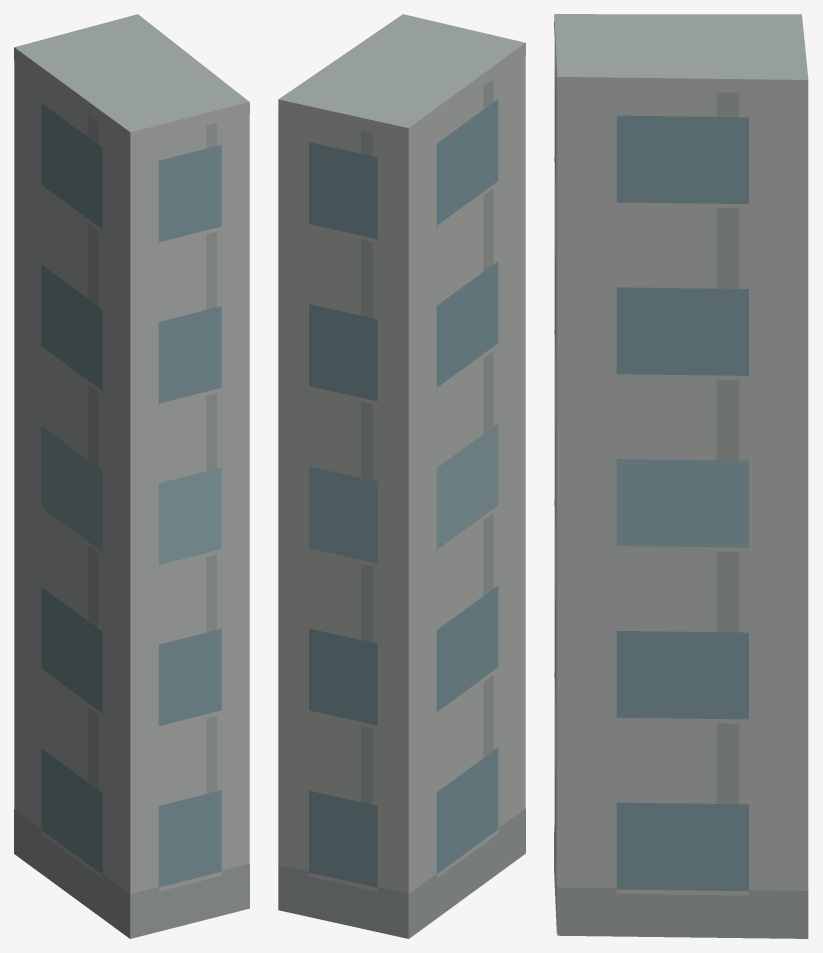
The model's file is survey-upis-32736899.glb.
3 views of the same model, side by side, from view 1: azimuth 30°, elevation 25°; view 2: azimuth 150°, elevation 25°; view 3: azimuth 270°, elevation 25° (orthographic). The views are drawn at different scales.
Visible parts, largest first — view 1: survey-upis-32736899.tmp; view 2: survey-upis-32736899.tmp; view 3: survey-upis-32736899.tmp.
Part boxes in pixels (x1,y1,x2,y2): survey-upis-32736899.tmp: [14, 14, 249, 938]; survey-upis-32736899.tmp: [278, 14, 525, 938]; survey-upis-32736899.tmp: [554, 14, 808, 938].
Size of the model in its own units: 2.53 by 15.25 by 4.1.
